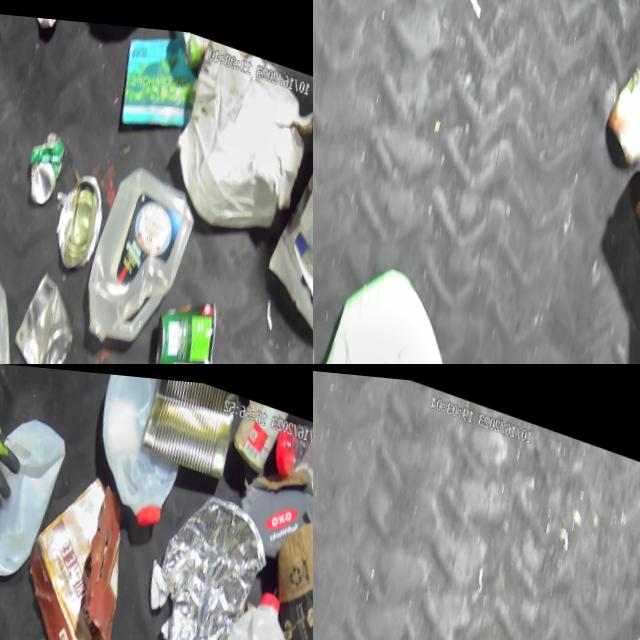can: (132, 371, 241, 474), (34, 154, 113, 275), (130, 268, 226, 364), (0, 257, 85, 364), (587, 44, 640, 165), (222, 386, 289, 470), (10, 117, 71, 207), (24, 13, 69, 31)
milk_jug: (55, 143, 209, 364), (71, 366, 204, 528), (313, 235, 473, 364), (0, 399, 78, 596), (167, 565, 313, 640)
plastic_bottle: (267, 400, 313, 481)
